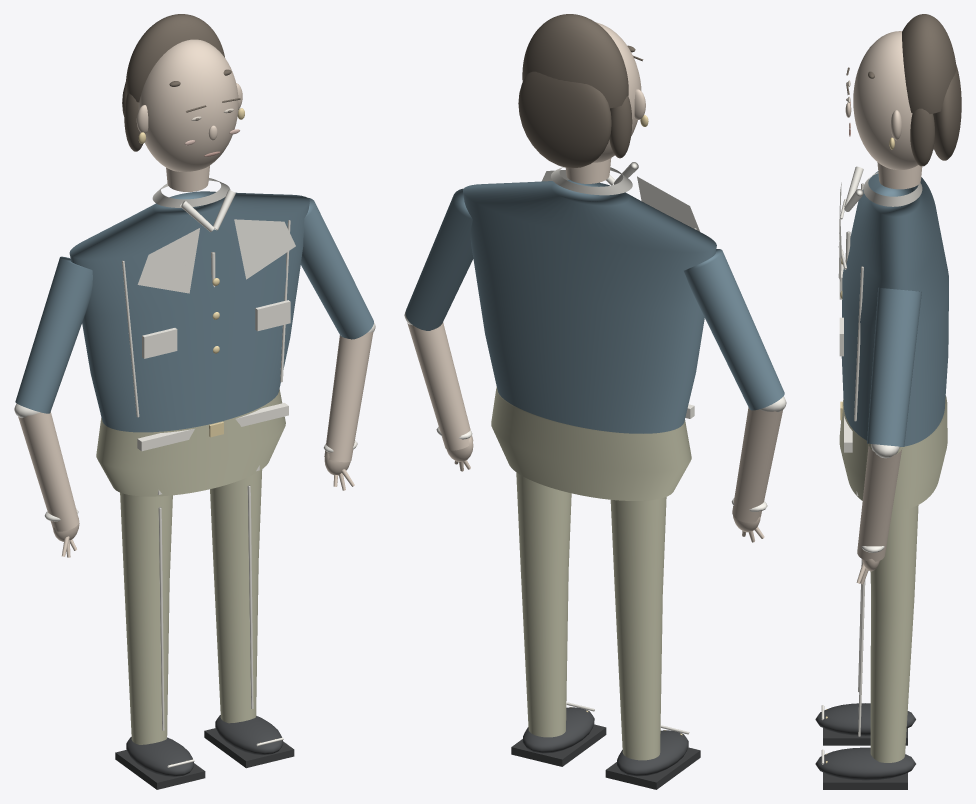
The model's file is male.glb.
3 renders of one model, left to right at view 1: azimuth 30°, elevation 25°; view 2: azimuth 150°, elevation 25°; view 3: azimuth 270°, elevation 25°, orthographic. The views are drawn at different scales.
Parts seen in each view (by area): view 1: StyleFit Parametric Digital Human; view 2: StyleFit Parametric Digital Human; view 3: StyleFit Parametric Digital Human.
Part boxes in pixels (<box>): StyleFit Parametric Digital Human: <box>14,14,375,789</box>; StyleFit Parametric Digital Human: <box>404,14,786,789</box>; StyleFit Parametric Digital Human: <box>815,14,961,789</box>.
Size of the model in its own units: 1.18 by 2.26 by 0.4058.
